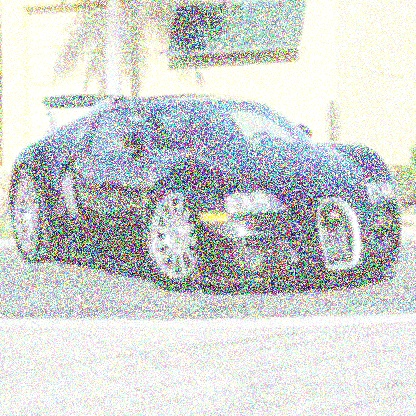Vehicle: (9, 93, 404, 295)
